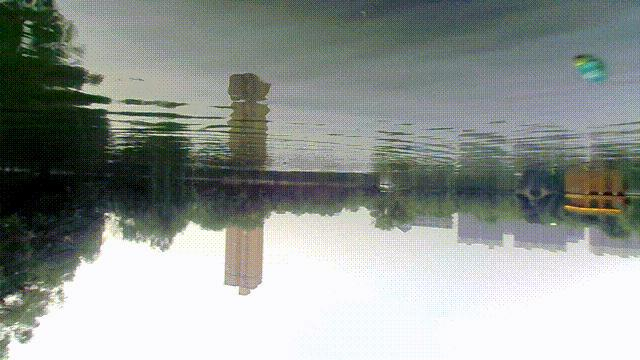Plastic: (568, 53, 614, 95)
